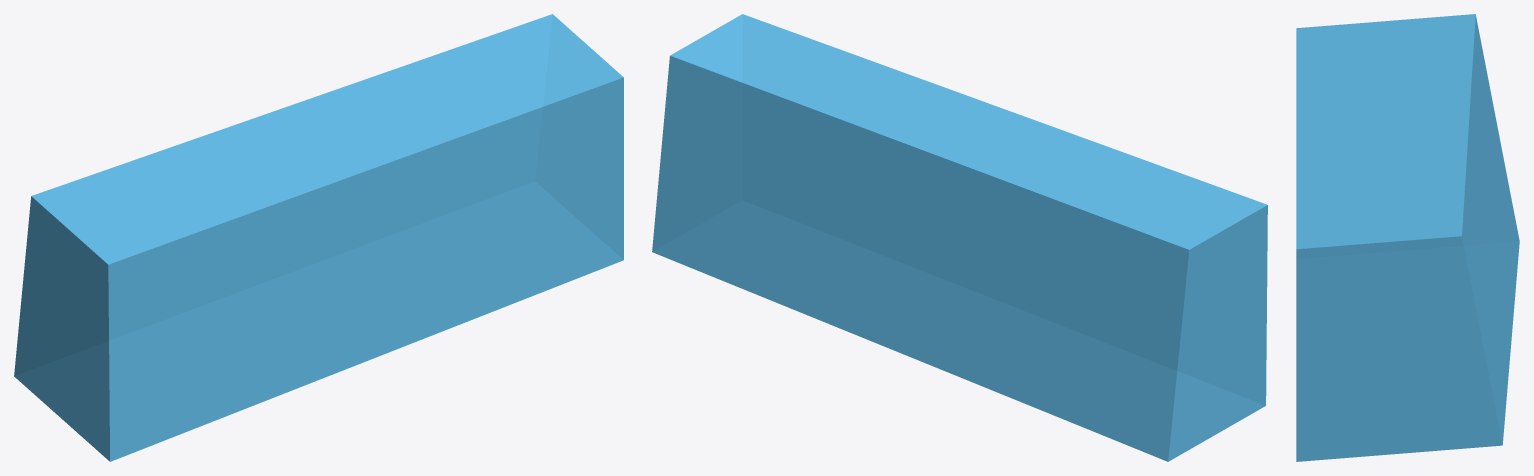
Rendered from Event_421115418_HErechit_27.fbx.
The picture shows the model from 3 angles, left to right: view 1: azimuth 30°, elevation 25°; view 2: azimuth 150°, elevation 25°; view 3: azimuth 270°, elevation 25°; orthographic projection. The views are drawn at different scales.
Visible parts, largest first — view 1: Model; view 2: Model; view 3: Model.
Part boxes in pixels (x1,y1,x2,y2): Model: (14, 14, 623, 461); Model: (652, 14, 1267, 461); Model: (1296, 14, 1519, 461).
Bounding box in the file's own units: 0.8411 × 0.4216 × 0.2715.
